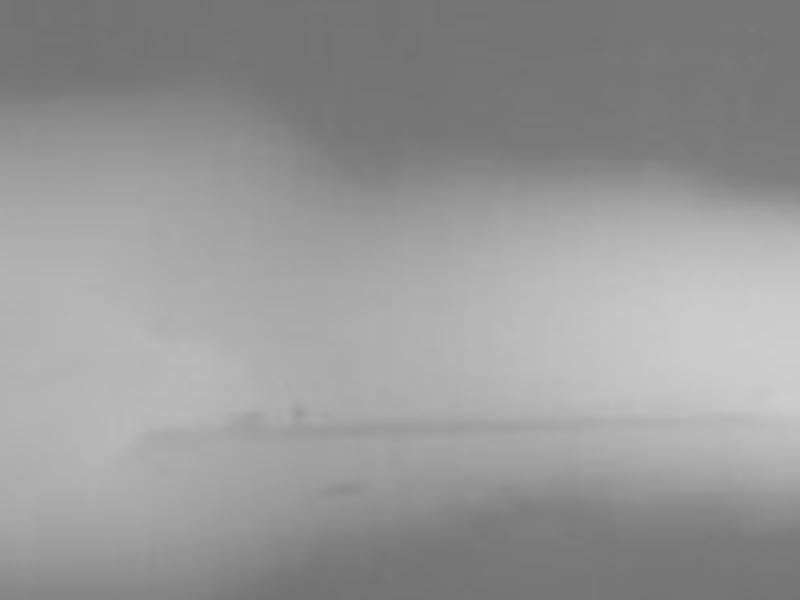defect: (230, 411, 271, 438), (319, 475, 365, 495), (287, 399, 312, 423)
